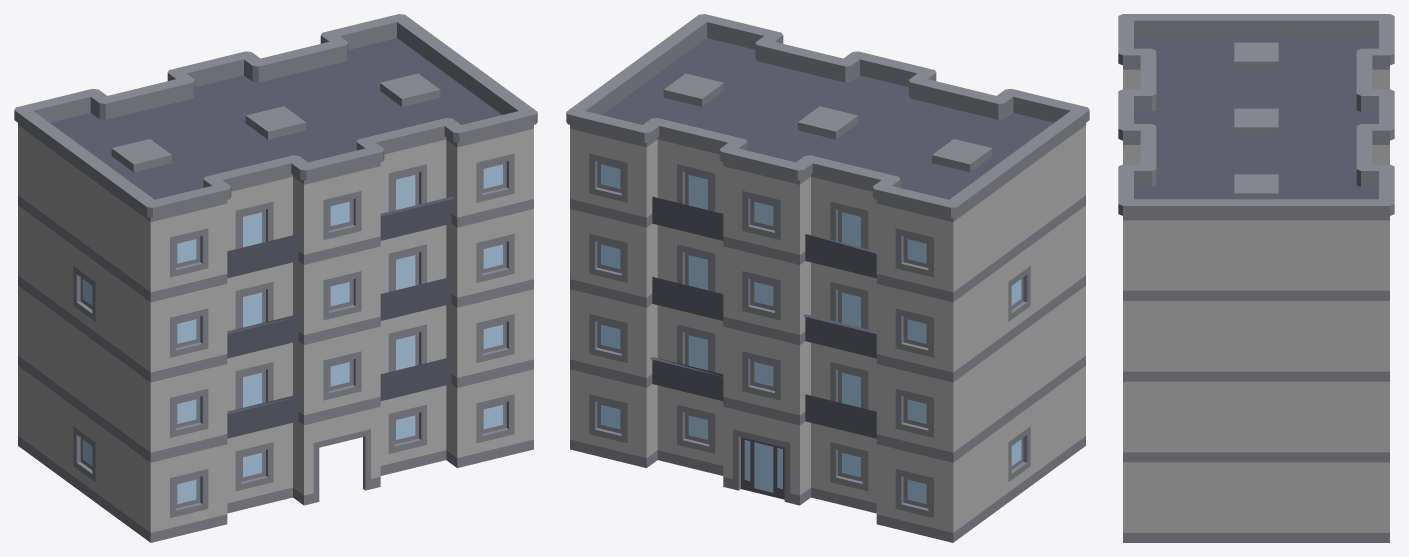
Rendered from buildingDoors.glb.
The picture shows the model from 3 angles, left to right: view 1: azimuth 30°, elevation 25°; view 2: azimuth 150°, elevation 25°; view 3: azimuth 270°, elevation 25°; orthographic projection.
Parts seen in each view (by area): view 1: large_buildingA; view 2: large_buildingA; view 3: large_buildingA.
Part boxes in pixels (box(x1,y1,x2,y2)): large_buildingA: box(14, 14, 537, 542); large_buildingA: box(566, 14, 1089, 542); large_buildingA: box(1118, 14, 1394, 542).
Bounding box in the file's own units: 2.04 × 1.68 × 1.24.
